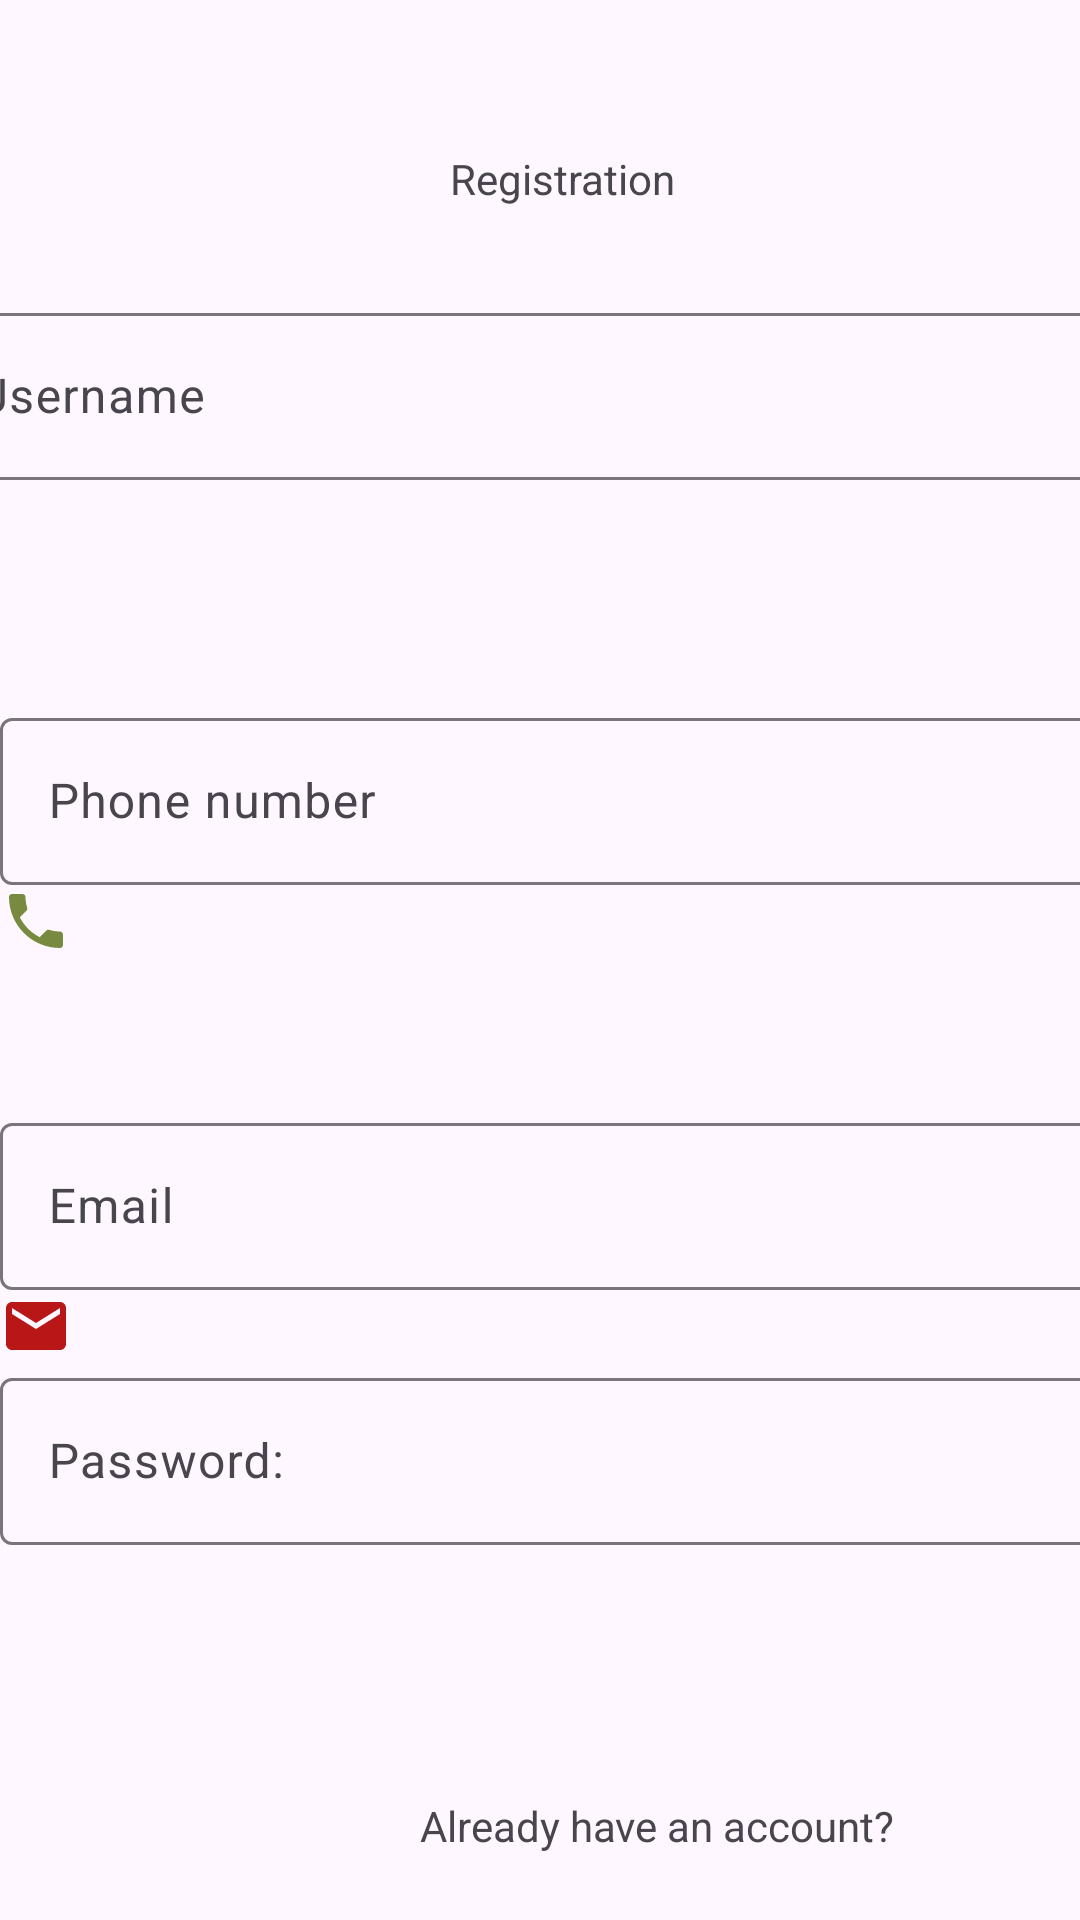

Point at icon controls on the screen. Image size 1080*1920, points as (x=x, y=y).
local phone: (x=36, y=921)
